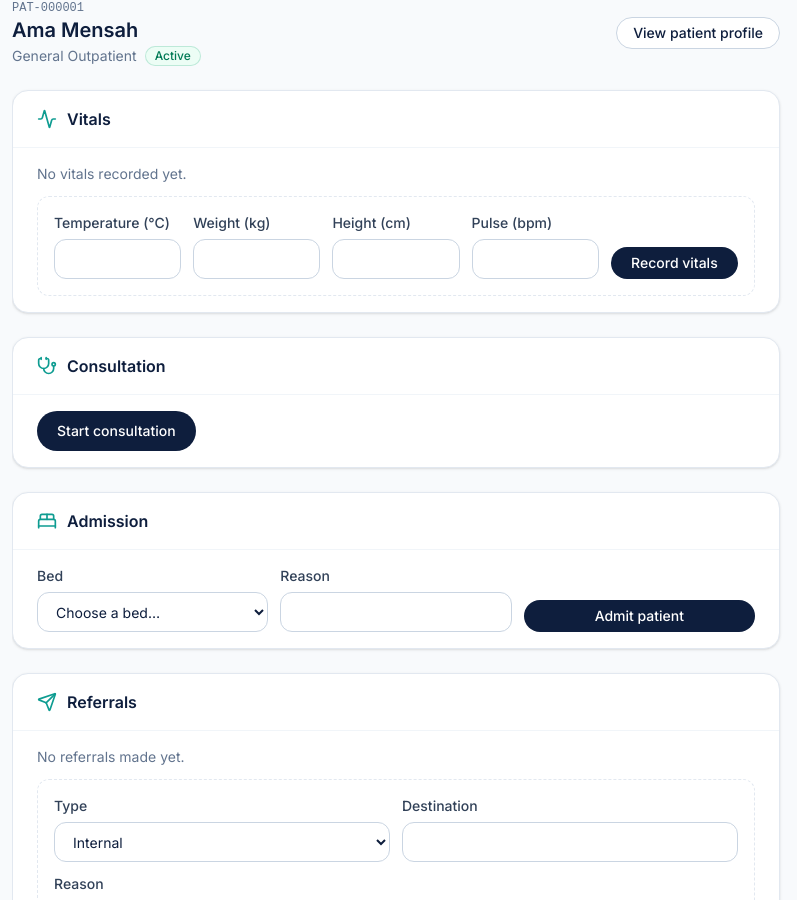
Test case: VisitWorkspace › starting a consultation reveals the notes form and diagnosis section
Step 1. Click the button "Start consultation" → click(116, 431), box [37, 411, 196, 451]
(page scrolled)
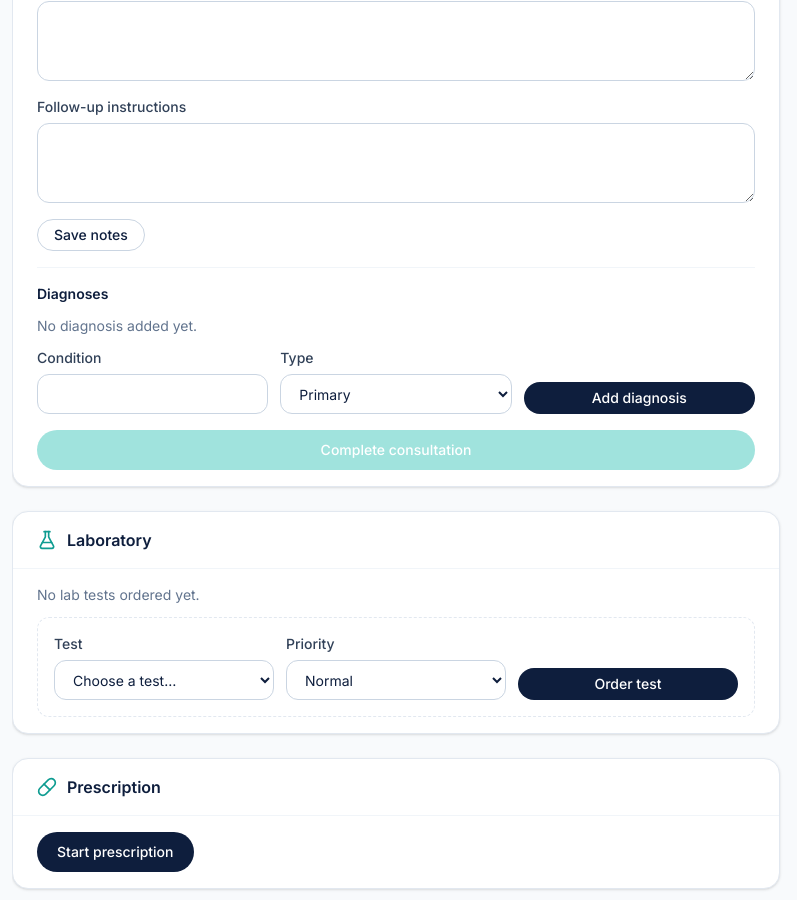
Expected: the heading "Diagnoses" is shown, [37, 285, 108, 302]
Expected: the button "Complete consultation" is disabled, [37, 430, 755, 470]
